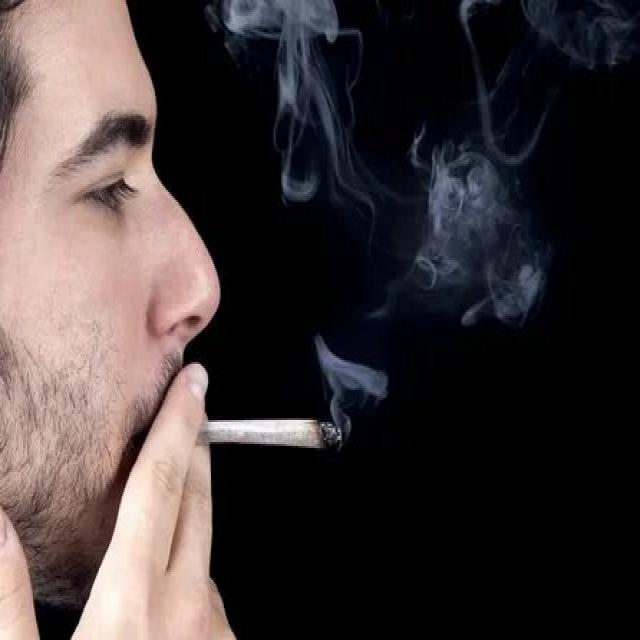smoke: (188, 410, 357, 466)
